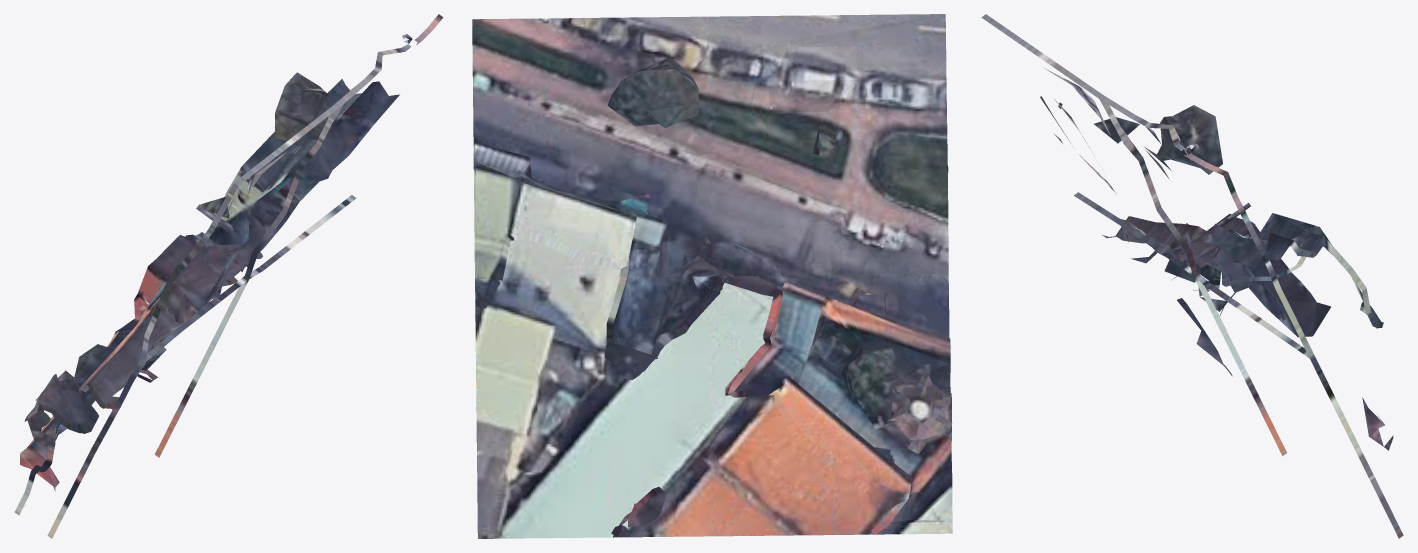
3 renders of one model, left to right at view 1: azimuth 30°, elevation 25°; view 2: azimuth 150°, elevation 25°; view 3: azimuth 270°, elevation 25°, orthographic. The views are drawn at different scales.
Size of the model in its own units: 39.72 by 35.07 by 32.42.
1 material, 1 textured.
